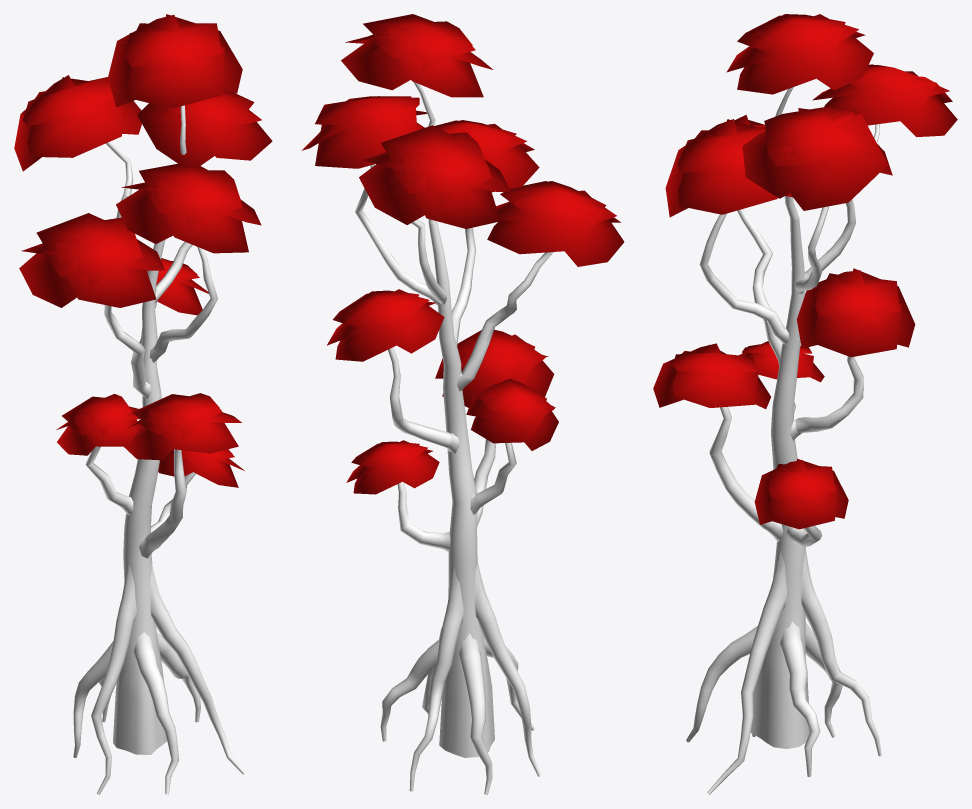
File: SM_tree_10.FBX
3 renders of one model, left to right at view 1: azimuth 30°, elevation 25°; view 2: azimuth 150°, elevation 25°; view 3: azimuth 270°, elevation 25°, orthographic. The views are drawn at different scales.
Parts seen in each view (by area): view 1: SM_tree_10_LOD0; view 2: SM_tree_10_LOD0; view 3: SM_tree_10_LOD0.
Part boxes in pixels (x1,y1,x2,y2): SM_tree_10_LOD0: (14, 14, 272, 794); SM_tree_10_LOD0: (301, 14, 624, 794); SM_tree_10_LOD0: (653, 14, 957, 794).
Size of what is drawn, in the model's own units: 353 by 342 by 951.
